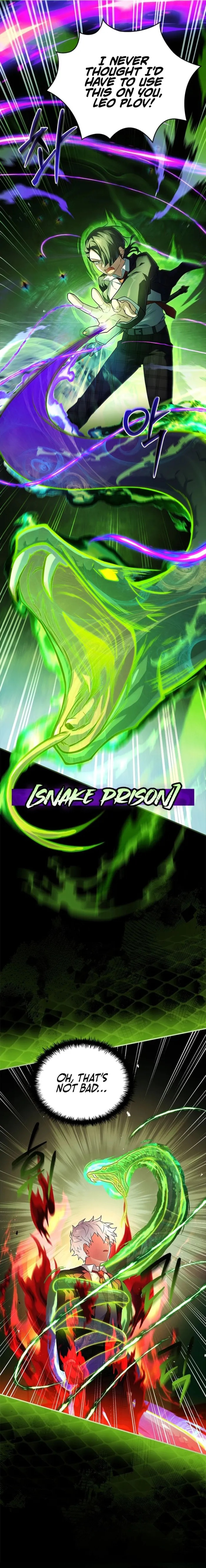bubbles: (48, 17, 204, 144), (28, 1034, 136, 1130)
